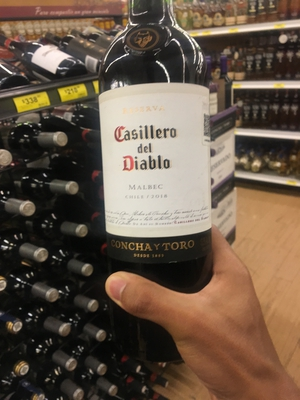casillero del diablo malbec: (100, 4, 220, 331)
